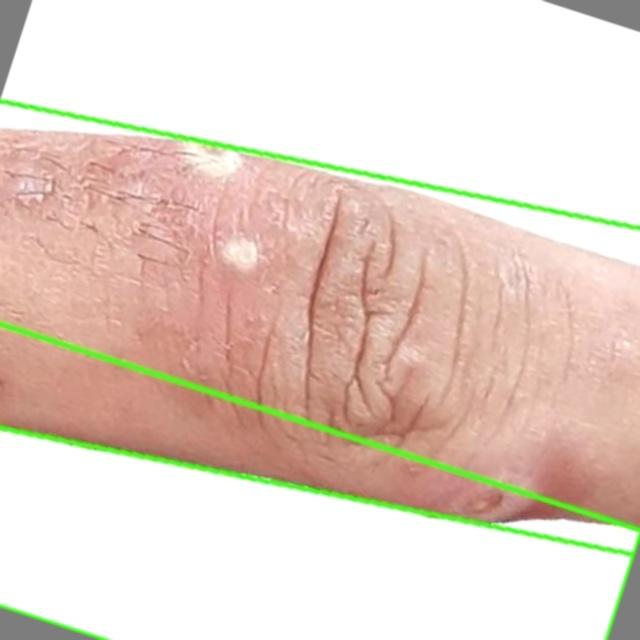Scabies: (0, 104, 639, 552), (0, 324, 639, 639)
